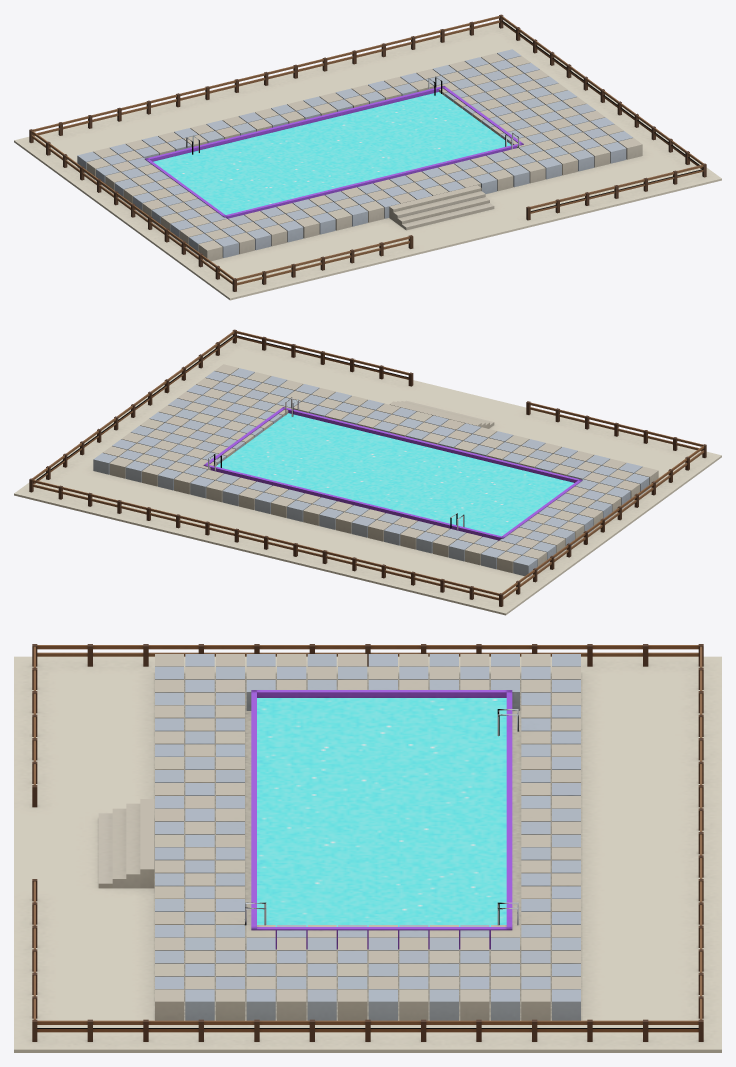
File: area_pool_1_5.fbx
3 views of the same model, one above another, from view 1: azimuth 30°, elevation 25°; view 2: azimuth 150°, elevation 25°; view 3: azimuth 270°, elevation 25° (orthographic). The views are drawn at different scales.
Visible parts, largest first — view 1: area_pool_1_5_body; view 2: area_pool_1_5_body; view 3: area_pool_1_5_body.
Part boxes in pixels (x1,y1,x2,y2): area_pool_1_5_body: [14, 14, 721, 300]; area_pool_1_5_body: [14, 329, 721, 615]; area_pool_1_5_body: [14, 644, 721, 1052].
Size of the model in its own units: 16750 by 779 by 12750.
1 material, 1 textured.
